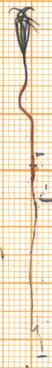flower: (6, 1, 47, 60)
root: (22, 167, 42, 334)
stem: (11, 53, 40, 166)
